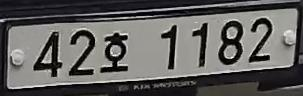1: (156, 20, 186, 74), (188, 20, 215, 69)
2: (67, 25, 98, 81), (247, 15, 276, 64)
4: (30, 29, 65, 81)
8: (214, 17, 245, 67)
호: (99, 29, 133, 77)
